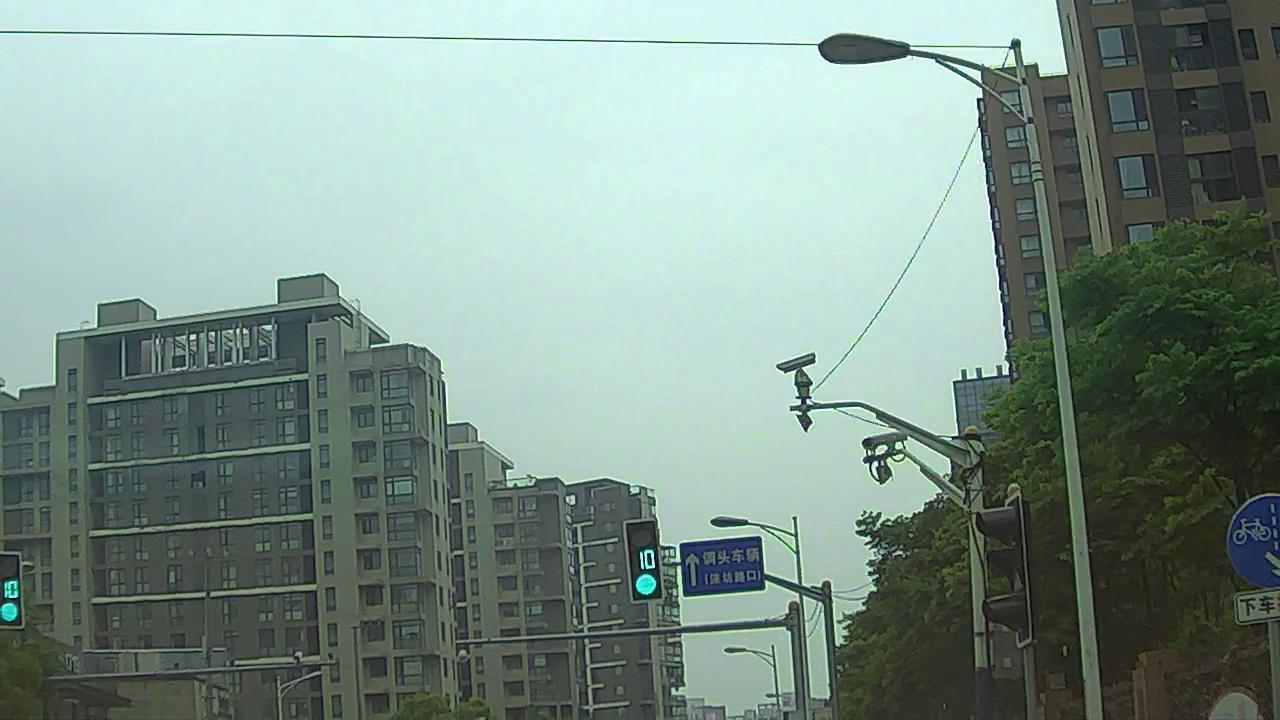traffic_light: (629, 522, 662, 598)
